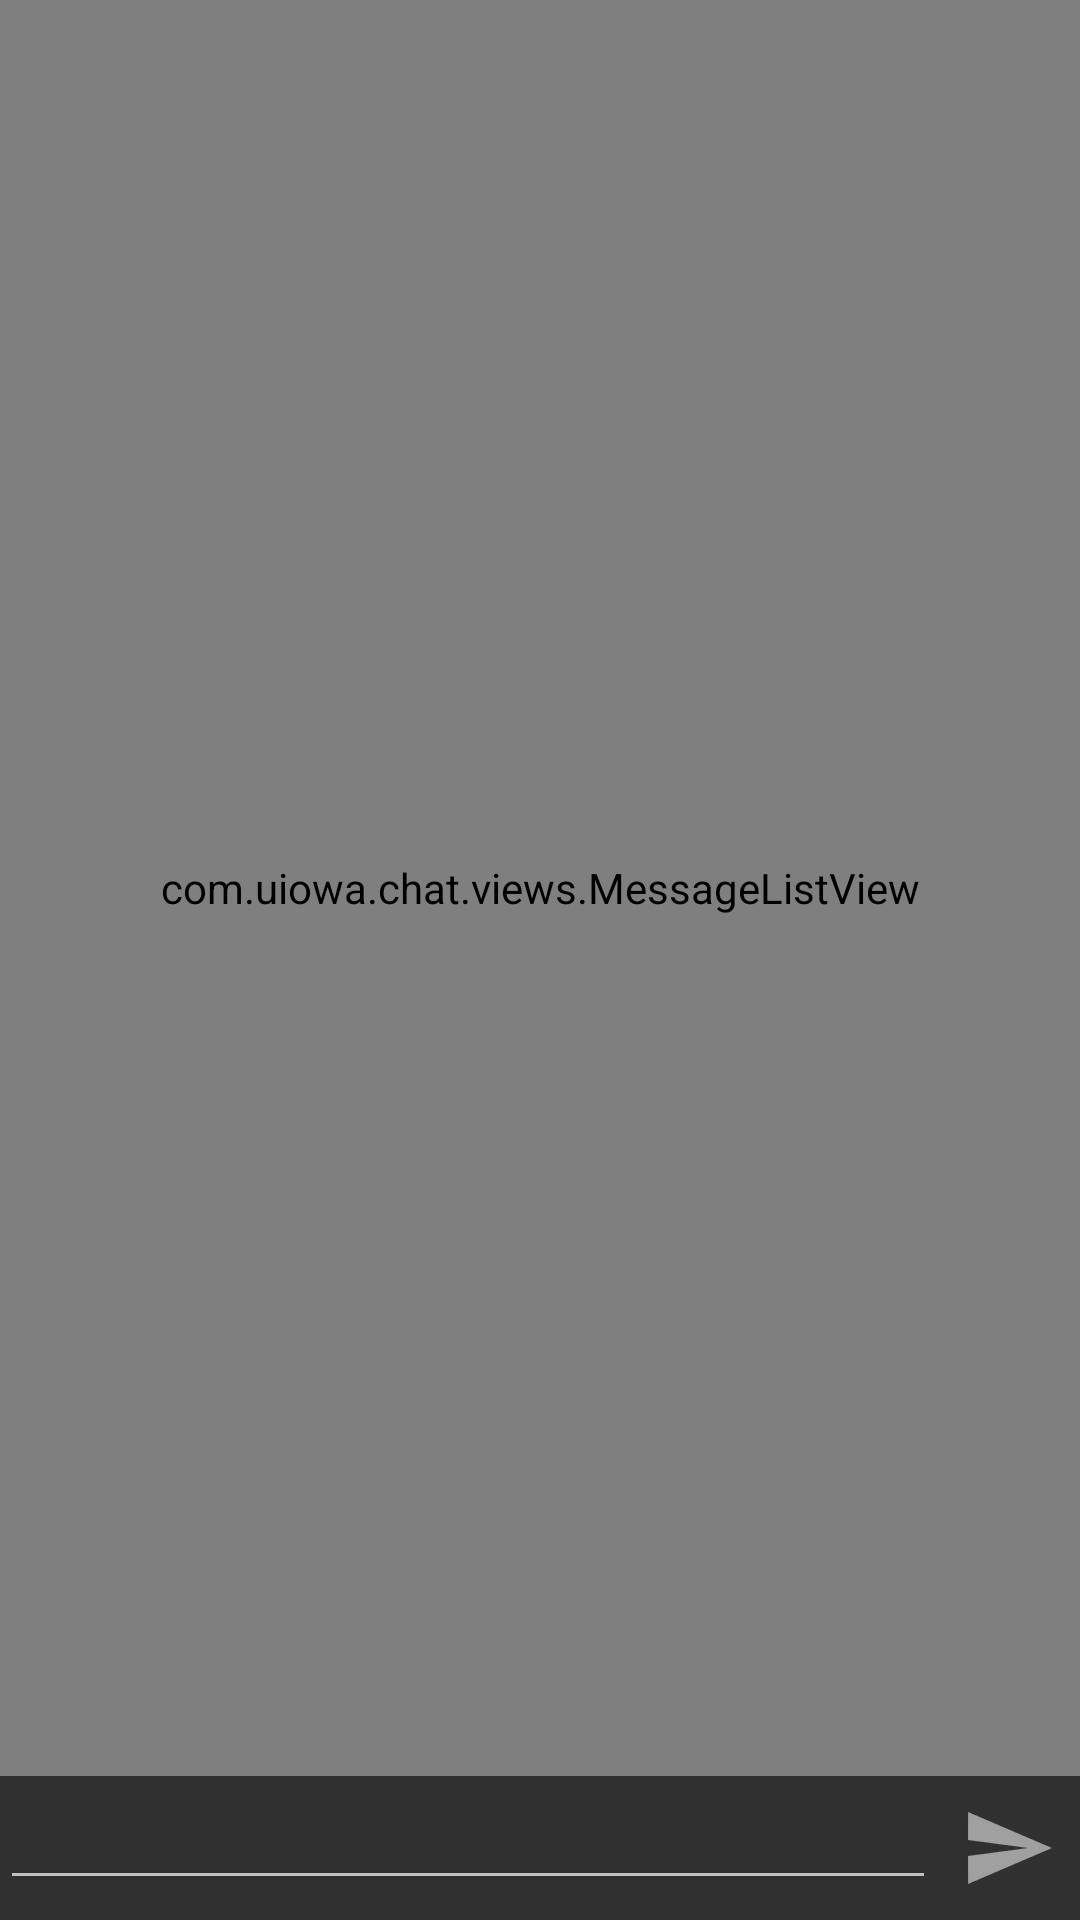

Named icons in this screenshot (1080x1920) and their bounding boxes, BBox(x1, y1, x2, y2):
send: BBox(968, 1812, 1051, 1884)
